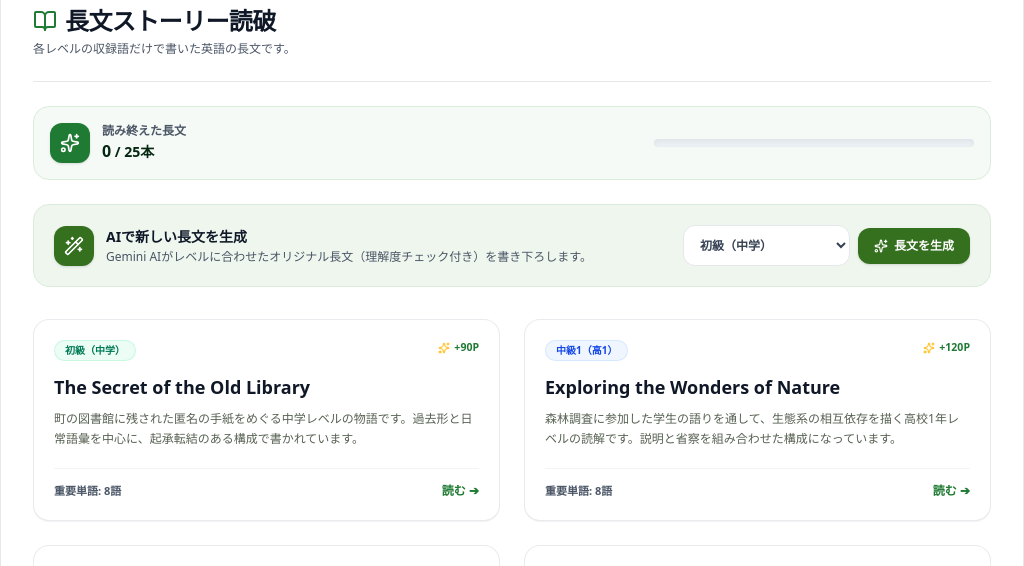
Test case: 復習への繋がり › 既に苦手単語に入っていれば、そう伝えて二重に足さない
Click the heading "The Secret of the Old Library".
click(182, 387)  # box [54,375,310,399]
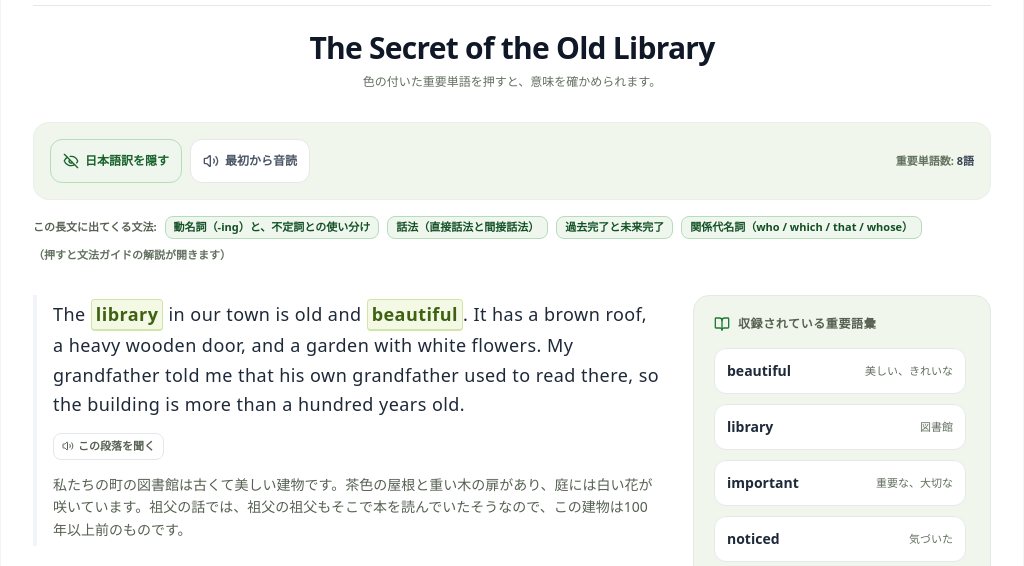
Click the button "beautiful".
click(415, 315)  # box [367,299,463,331]
(page scrolled)
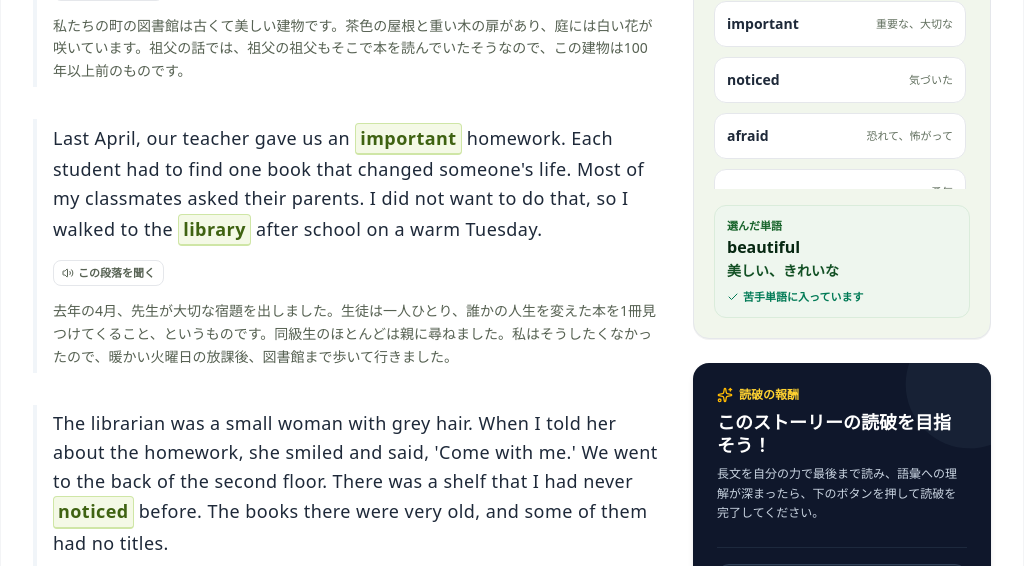
Now the text "苦手単語に入っています" is shown, box [727,288,864,304]
